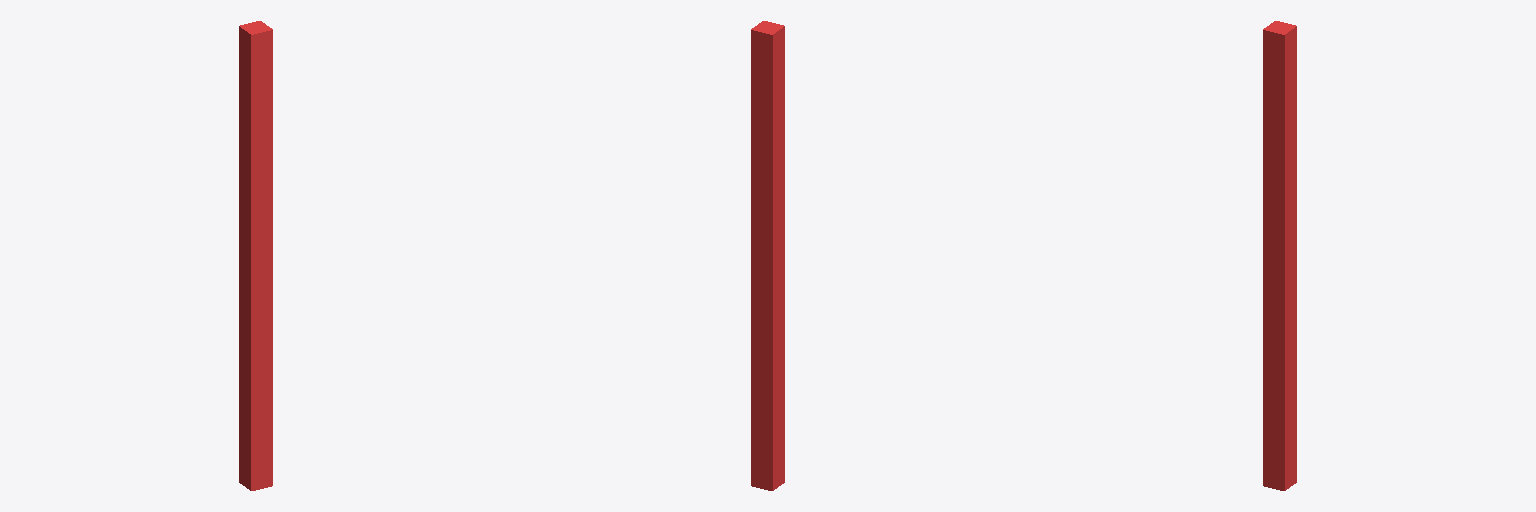
The robot description file, URDF, robot "box":
<?xml version='1.0' encoding='UTF-8'?>
<robot name="box">
  <link name="base_link">
    <inertial>
      <origin xyz="0.0 0.0 0.0" rpy="0.0 -0.0 0.0"/>
      <mass value="1.0"/>
      <inertia ixx="1.0" ixy="0.0" ixz="0.0" iyy="1.0" iyz="0.0" izz="1.0"/>
    </inertial>
    <visual name="base_link_visual">
      <geometry>
        <box size="0.1 0.1 2.0"/>
      </geometry>
      <origin xyz="0 0 0" rpy="0 0 0"/>
      <material name="object_color">
        <color rgba="0.95 0.3 0.3 1"/>
      </material>
    </visual>
    <collision name="base_link_collision">
      <geometry>
        <box size="0.1 0.1 2.0"/>
      </geometry>
      <origin xyz="0 0 0" rpy="0 0 0"/>
    </collision>
  </link>
</robot>

--- What the picture shows (computed from the rendered views, not written in the file) ---
The picture shows the robot from 3 angles, left to right: view 1: azimuth 30°, elevation 25°; view 2: azimuth 150°, elevation 25°; view 3: azimuth 330°, elevation 25°; orthographic projection.
Robot: box — 1 links, 0 joints (none); root link base_link; default pose: every joint at zero.
Visible links, largest first — view 1: base_link; view 2: base_link; view 3: base_link.
Link boxes in pixels (<box>): base_link: <box>239,21,272,490</box>; base_link: <box>751,21,784,490</box>; base_link: <box>1263,21,1296,490</box>.
Size in the robot's own frame: 0.1 by 0.1 by 2 metres.
Geometry: primitives only (box / cylinder / sphere), no mesh files.
